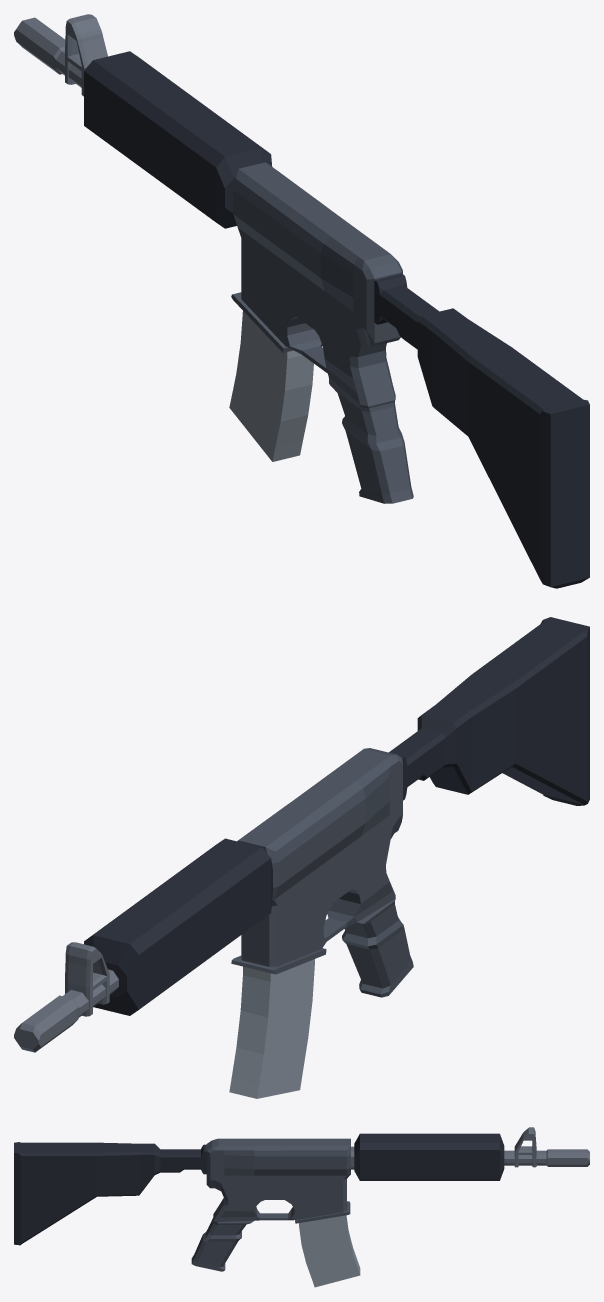
The picture shows the model from 3 angles, top to bottom: view 1: azimuth 30°, elevation 25°; view 2: azimuth 150°, elevation 25°; view 3: azimuth 270°, elevation 25°; orthographic projection. The views are drawn at different scales.
Visible parts, largest first — view 1: Cube, Cube.003, Cube.004, Cube.001, Cube.005; view 2: Cube, Cube.003, Cube.004, Cube.001, Cube.005; view 3: Cube, Cube.003, Cube.004, Cube.001, Cube.005.
Boxes of the visible parts, box(x1,y1,x2,y2) form: Cube: box(231, 162, 413, 503); Cube.003: box(374, 273, 589, 588); Cube.004: box(84, 51, 272, 228); Cube.001: box(229, 311, 313, 461); Cube.005: box(14, 14, 233, 188); Cube: box(231, 748, 413, 997); Cube.003: box(389, 617, 589, 805); Cube.004: box(84, 838, 272, 1015); Cube.001: box(229, 959, 314, 1098); Cube.005: box(14, 942, 118, 1052); Cube: box(191, 1138, 350, 1271); Cube.003: box(14, 1142, 206, 1245); Cube.004: box(354, 1133, 504, 1180); Cube.001: box(299, 1215, 360, 1287); Cube.005: box(351, 1127, 589, 1169).
Size of the model in its own units: 56.16 by 283 by 961.
